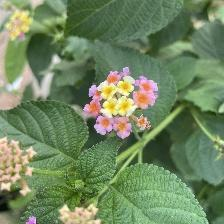common lanthana: (86, 68, 161, 140)
